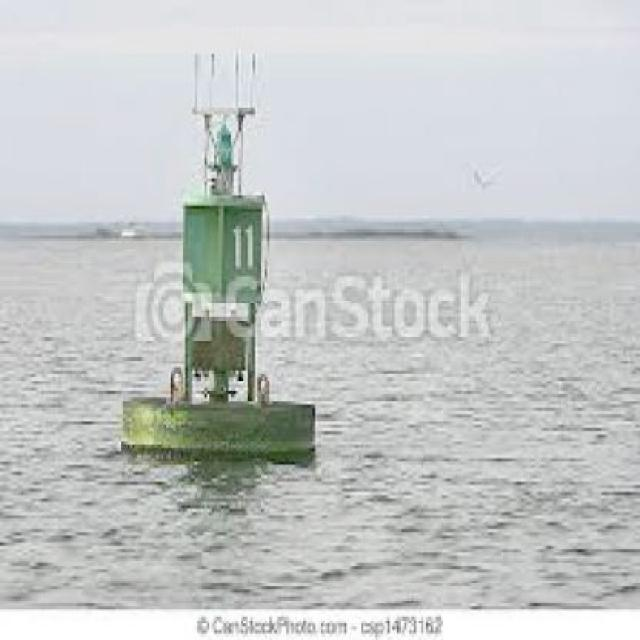no-oil: (23, 237, 631, 584)
